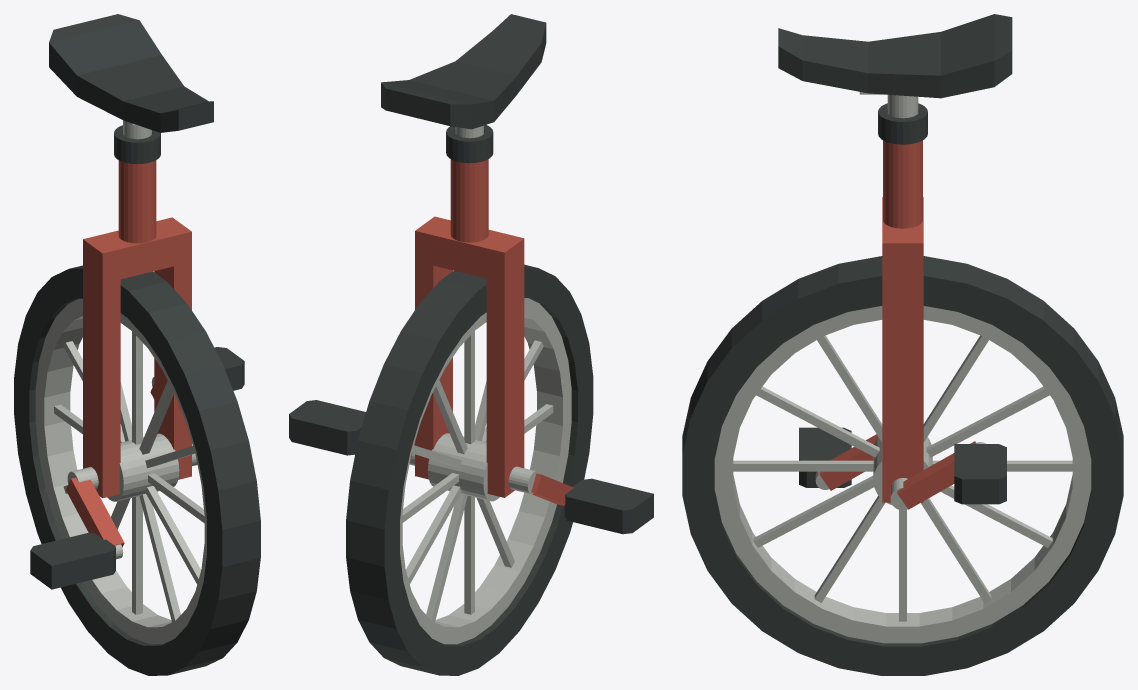
The picture shows the model from 3 angles, left to right: view 1: azimuth 30°, elevation 25°; view 2: azimuth 150°, elevation 25°; view 3: azimuth 270°, elevation 25°; orthographic projection. The views are drawn at different scales.
Parts seen in each view (by area): view 1: WholeGroundFootFacetedAnnularTyre, WholeOpenCrownFork, WholeCurvedNoseAndRearSaddle, WholeOpenWheelRim, WholeChamferedPedal_Left, WholeStraightSeatTube, WholeWideWheelHub, WholeOpposedDirectCrank_Left, WholeWheelSpoke_08, WholeSeatTubeCollar, WholeWheelSpoke_09, WholeWheelSpoke_03 (+9 smaller); view 2: WholeGroundFootFacetedAnnularTyre, WholeOpenCrownFork, WholeOpenWheelRim, WholeCurvedNoseAndRearSaddle, WholeChamferedPedal_Left, WholeChamferedPedal_Right, WholeStraightSeatTube, WholeWideWheelHub, WholeWheelSpoke_10, WholeSeatTubeCollar, WholeWheelSpoke_09, WholeWheelSpoke_11 (+6 smaller); view 3: WholeGroundFootFacetedAnnularTyre, WholeOpenWheelRim, WholeCurvedNoseAndRearSaddle, WholeOpenCrownFork, WholeStraightSeatTube, WholeChamferedPedal_Right, WholeChamferedPedal_Left, WholeWheelSpoke_06, WholeOpposedDirectCrank_Right, WholeWheelSpoke_05, WholeWheelSpoke_07, WholeWheelSpoke_01 (+11 smaller).
Part boxes in pixels (x1,y1,x2,y2): WholeGroundFootFacetedAnnularTyre: [14, 265, 260, 675]; WholeOpenCrownFork: [83, 217, 191, 498]; WholeCurvedNoseAndRearSaddle: [49, 14, 213, 132]; WholeOpenWheelRim: [35, 298, 206, 644]; WholeChamferedPedal_Left: [30, 532, 115, 589]; WholeStraightSeatTube: [118, 160, 156, 243]; WholeWideWheelHub: [107, 433, 179, 501]; WholeOpposedDirectCrank_Left: [66, 477, 124, 547]; WholeWheelSpoke_08: [139, 494, 180, 622]; WholeSeatTubeCollar: [114, 125, 160, 164]; WholeWheelSpoke_09: [132, 496, 142, 614]; WholeWheelSpoke_03: [132, 331, 142, 444]; WholeGroundFootFacetedAnnularTyre: [346, 264, 593, 675]; WholeOpenCrownFork: [415, 216, 524, 497]; WholeOpenWheelRim: [400, 298, 571, 644]; WholeCurvedNoseAndRearSaddle: [381, 14, 546, 129]; WholeChamferedPedal_Left: [564, 478, 653, 534]; WholeChamferedPedal_Right: [289, 400, 365, 455]; WholeStraightSeatTube: [450, 159, 488, 242]; WholeWideWheelHub: [427, 433, 499, 501]; WholeWheelSpoke_10: [426, 493, 467, 621]; WholeSeatTubeCollar: [446, 125, 493, 163]; WholeWheelSpoke_09: [464, 496, 474, 614]; WholeWheelSpoke_11: [406, 485, 461, 584]; WholeGroundFootFacetedAnnularTyre: [682, 256, 1123, 675]; WholeOpenWheelRim: [714, 306, 1091, 643]; WholeCurvedNoseAndRearSaddle: [778, 14, 1012, 98]; WholeOpenCrownFork: [882, 197, 923, 502]; WholeStraightSeatTube: [883, 140, 922, 228]; WholeChamferedPedal_Right: [954, 444, 1006, 504]; WholeChamferedPedal_Left: [799, 427, 851, 487]; WholeWheelSpoke_06: [733, 460, 873, 471]; WholeOpposedDirectCrank_Right: [897, 441, 975, 509]; WholeWheelSpoke_05: [756, 386, 879, 457]; WholeWheelSpoke_07: [753, 476, 873, 547]; WholeWheelSpoke_01: [926, 386, 1049, 457].
Bounding box in the file's own units: 0.476 × 1.01 × 0.6369.
